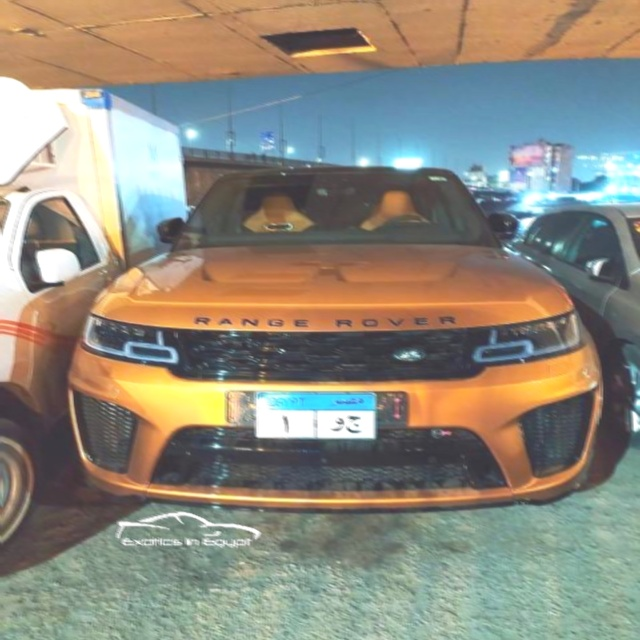License Plate: (252, 390, 378, 441)
